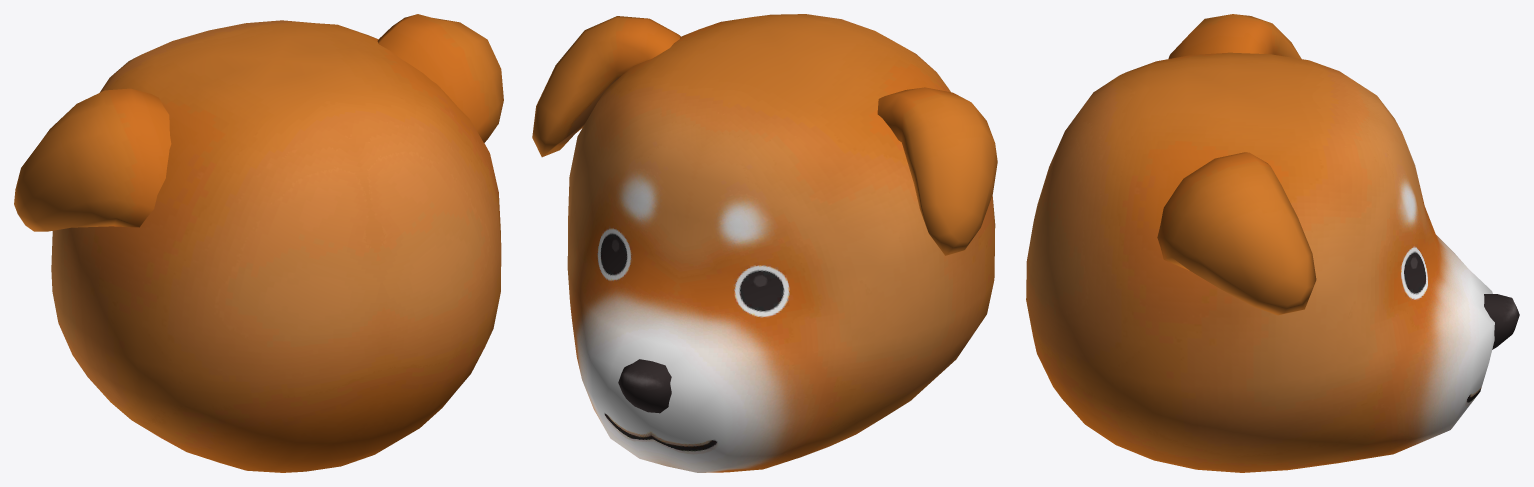
The model's file is Dog.glb.
The picture shows the model from 3 angles, left to right: view 1: azimuth 30°, elevation 25°; view 2: azimuth 150°, elevation 25°; view 3: azimuth 270°, elevation 25°; orthographic projection. The views are drawn at different scales.
Visible parts, largest first — view 1: Dog; view 2: Dog; view 3: Dog.
Part boxes in pixels (bbox=[...]): Dog: bbox=[14, 14, 503, 472]; Dog: bbox=[532, 14, 997, 472]; Dog: bbox=[1026, 14, 1519, 472].
Bounding box in the file's own units: 0.9668 × 0.7818 × 0.9563.
1 material, 1 textured.
